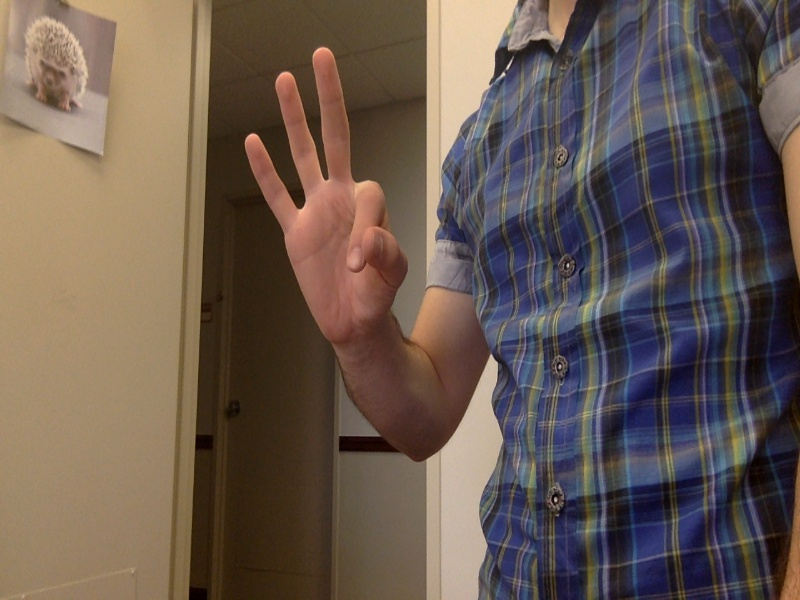3-hand: (241, 47, 406, 352)
